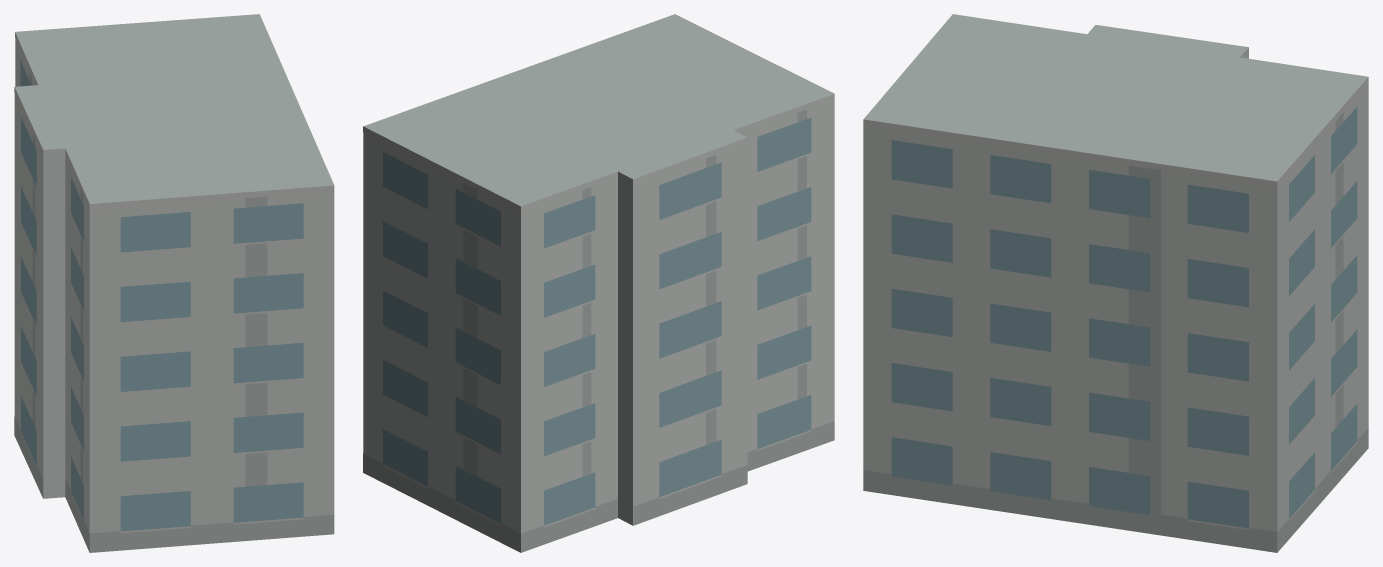
File: survey-upis-32950228.glb
3 renders of one model, left to right at view 1: azimuth 30°, elevation 25°; view 2: azimuth 150°, elevation 25°; view 3: azimuth 270°, elevation 25°, orthographic. The views are drawn at different scales.
Parts seen in each view (by area): view 1: survey-upis-32950228.tmp; view 2: survey-upis-32950228.tmp; view 3: survey-upis-32950228.tmp.
Part boxes in pixels (x1,y1,x2,y2): survey-upis-32950228.tmp: (14,14,334,552); survey-upis-32950228.tmp: (363,14,834,552); survey-upis-32950228.tmp: (863,14,1368,552).
Bounding box in the file's own units: 13.84 × 14.3 × 17.64.
